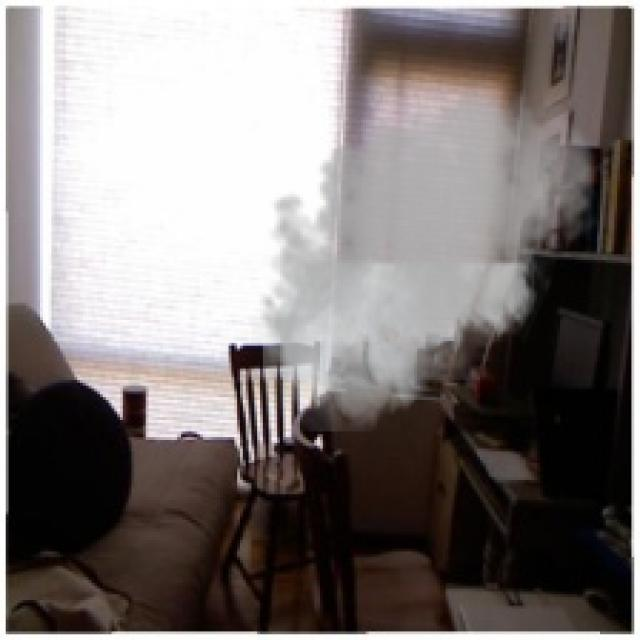smoke: (248, 74, 603, 432)
